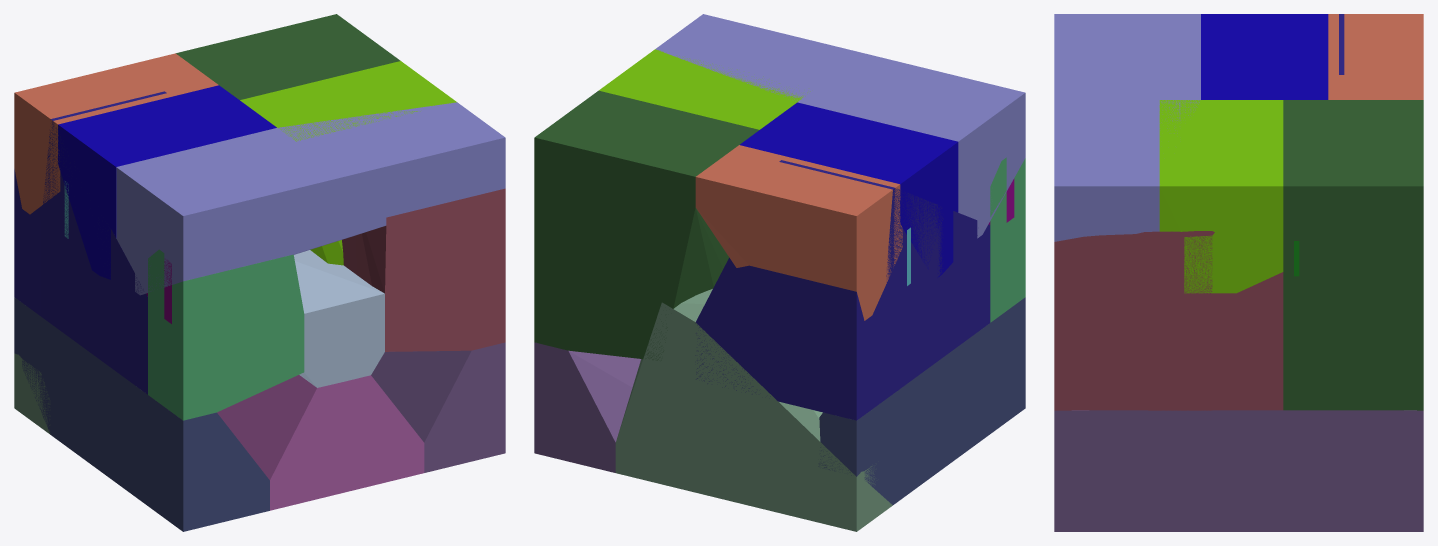
The model's file is hole_1.obj.
3 renders of one model, left to right at view 1: azimuth 30°, elevation 25°; view 2: azimuth 150°, elevation 25°; view 3: azimuth 270°, elevation 25°, orthographic. The views are drawn at different scales.
Parts seen in each view (by area): view 1: geometry_12, geometry_16, geometry_3, geometry_13, geometry_7, geometry_18, geometry_5, geometry_1, geometry_9, geometry_19, geometry_6, geometry_4 (+1 smaller); view 2: geometry_19, geometry_18, geometry_0, geometry_12, geometry_9, geometry_16, geometry_5, geometry_1, geometry_4, geometry_3; view 3: geometry_1, geometry_19, geometry_13, geometry_12, geometry_4, geometry_5, geometry_9.
Boxes of the visible parts, x1,y1,x2,y2 form: geometry_12: [116, 102, 505, 295]; geometry_16: [14, 297, 269, 531]; geometry_3: [148, 249, 304, 420]; geometry_13: [342, 188, 505, 351]; geometry_7: [217, 375, 424, 510]; geometry_18: [14, 91, 166, 394]; geometry_5: [58, 85, 276, 279]; geometry_1: [371, 342, 505, 472]; geometry_9: [14, 53, 218, 214]; geometry_19: [176, 14, 400, 99]; geometry_6: [294, 250, 384, 387]; geometry_4: [240, 61, 456, 265]; geometry_19: [534, 90, 758, 360]; geometry_18: [695, 160, 990, 420]; geometry_0: [615, 289, 892, 531]; geometry_12: [655, 14, 1025, 238]; geometry_9: [695, 145, 902, 320]; geometry_16: [818, 297, 1025, 504]; geometry_5: [740, 102, 958, 277]; geometry_1: [534, 342, 640, 472]; geometry_4: [599, 49, 810, 129]; geometry_3: [990, 157, 1025, 322]; geometry_1: [1054, 410, 1423, 531]; geometry_19: [1283, 100, 1423, 410]; geometry_13: [1054, 231, 1283, 410]; geometry_12: [1054, 14, 1200, 241]; geometry_4: [1159, 100, 1283, 293]; geometry_5: [1201, 14, 1328, 99]; geometry_9: [1328, 14, 1423, 99].
Size of the model in its own units: 0.0551 by 0.0516 by 0.05.
